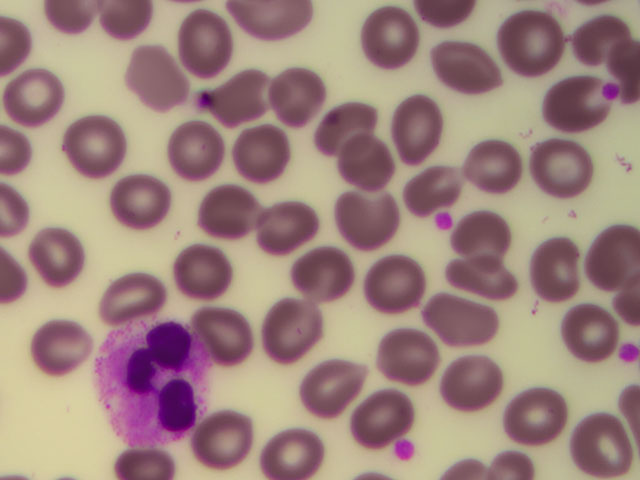Platelets: (616, 340, 640, 373), (600, 77, 625, 103), (394, 435, 416, 456), (435, 210, 452, 228)
RBC: (67, 115, 126, 177), (107, 167, 166, 229), (28, 226, 87, 288), (30, 312, 89, 374), (97, 258, 156, 320), (179, 237, 238, 299), (200, 177, 259, 239), (249, 197, 308, 259), (163, 123, 222, 185), (237, 120, 296, 182), (206, 66, 265, 128), (257, 63, 316, 125), (179, 12, 238, 74), (134, 44, 193, 106), (309, 80, 368, 142), (337, 132, 396, 194), (333, 187, 392, 249), (292, 243, 351, 305), (264, 292, 323, 354), (297, 350, 356, 412), (261, 418, 320, 480), (199, 406, 258, 468), (346, 376, 405, 438), (389, 319, 448, 381), (431, 286, 490, 348), (446, 245, 505, 307), (457, 205, 516, 267), (359, 246, 418, 308), (404, 150, 463, 212), (387, 92, 446, 154), (365, 13, 424, 75), (440, 41, 499, 103), (507, 10, 566, 72), (538, 70, 597, 132), (539, 131, 598, 193), (463, 131, 522, 193), (528, 237, 587, 299), (581, 210, 640, 272), (564, 300, 623, 362), (513, 386, 572, 448), (442, 349, 501, 411), (581, 414, 640, 476), (566, 1, 625, 62), (1, 66, 59, 128)
WBC: (92, 315, 213, 443)
